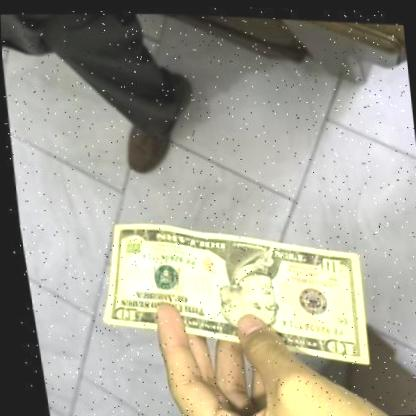ten-front: (79, 199, 369, 373)
